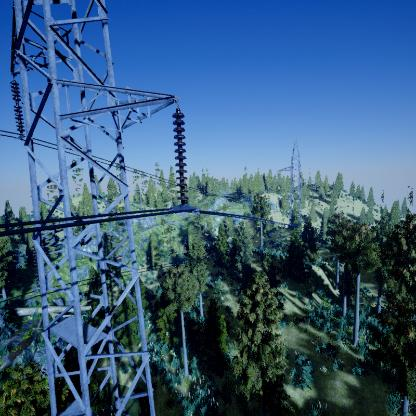insulator: (170, 109, 190, 205), (9, 80, 25, 139)
tower: (274, 138, 317, 223)
